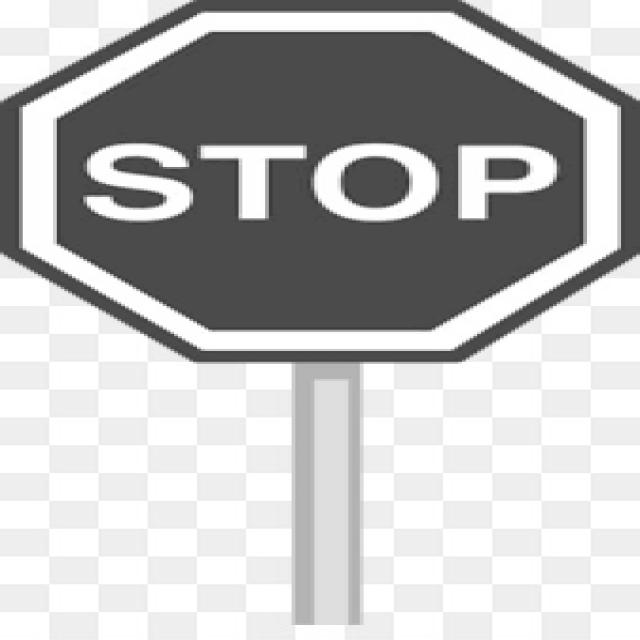stop sign: (6, 0, 639, 357)
